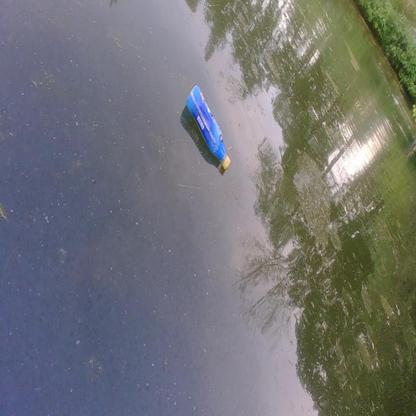plastic bottle: (186, 84, 231, 171)
